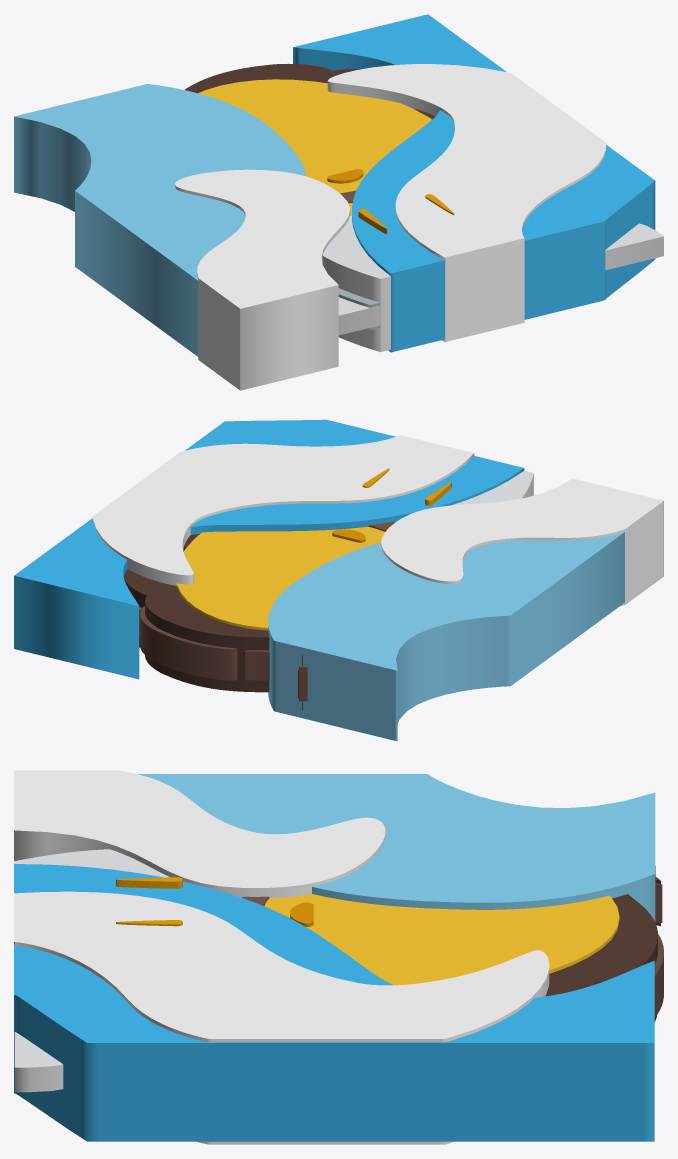
File: emoji_u1f9d6.glb
The picture shows the model from 3 angles, top to bottom: view 1: azimuth 30°, elevation 25°; view 2: azimuth 150°, elevation 25°; view 3: azimuth 270°, elevation 25°; orthographic projection. The views are drawn at different scales.
Parts seen in each view (by area): view 1: emoji_u1f9d6; view 2: emoji_u1f9d6; view 3: emoji_u1f9d6.
Part boxes in pixels (x1,y1,x2,y2): emoji_u1f9d6: [14, 14, 663, 390]; emoji_u1f9d6: [14, 419, 663, 741]; emoji_u1f9d6: [14, 770, 663, 1144].
Size of the model in its own units: 0.033 by 0.0064 by 0.0334.
